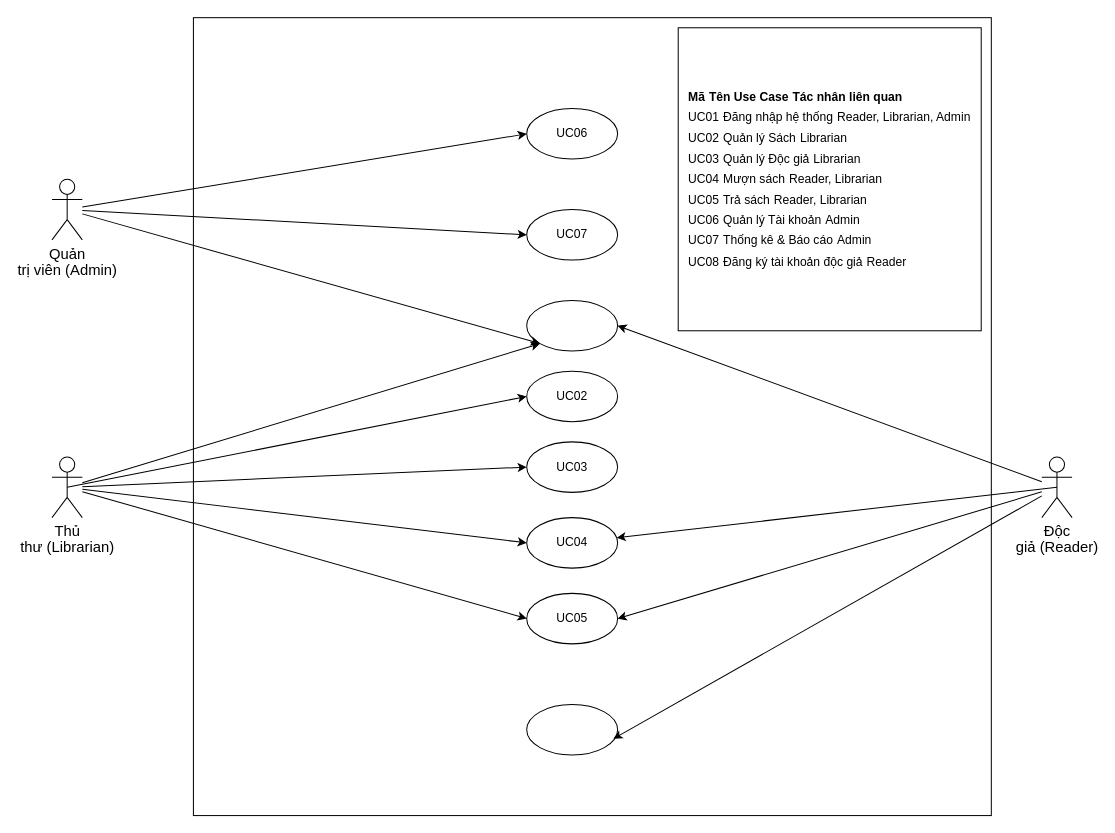
The diagram is 1115 pixels wide and 833 high, and some of its shapes have lost their labels. Each missing label, with the centre of its shape:
"UC01" goes at pixel 572 325.
"UC08" goes at pixel 572 729.
